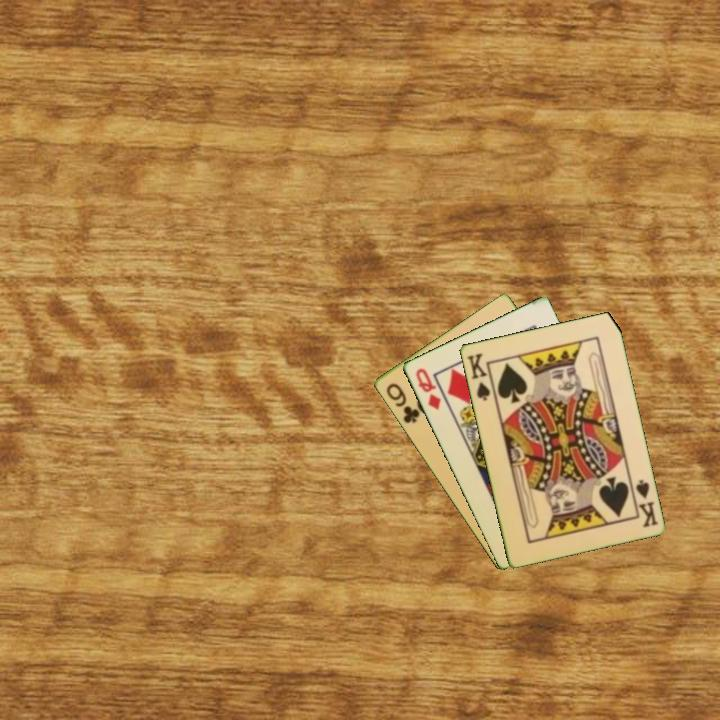9c: (382, 379, 423, 426)
Ks: (463, 349, 497, 403), (627, 476, 660, 530)
Qd: (412, 364, 443, 413)
